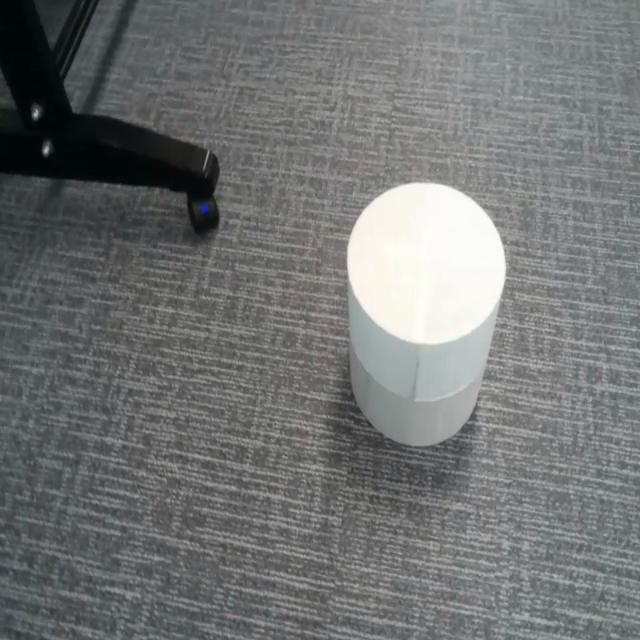cylinder: (346, 179, 508, 447)
